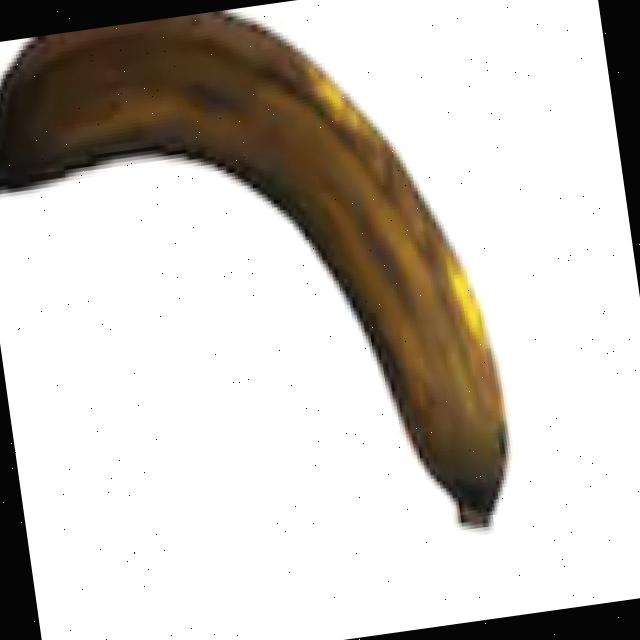Rotten: (0, 0, 531, 605)
